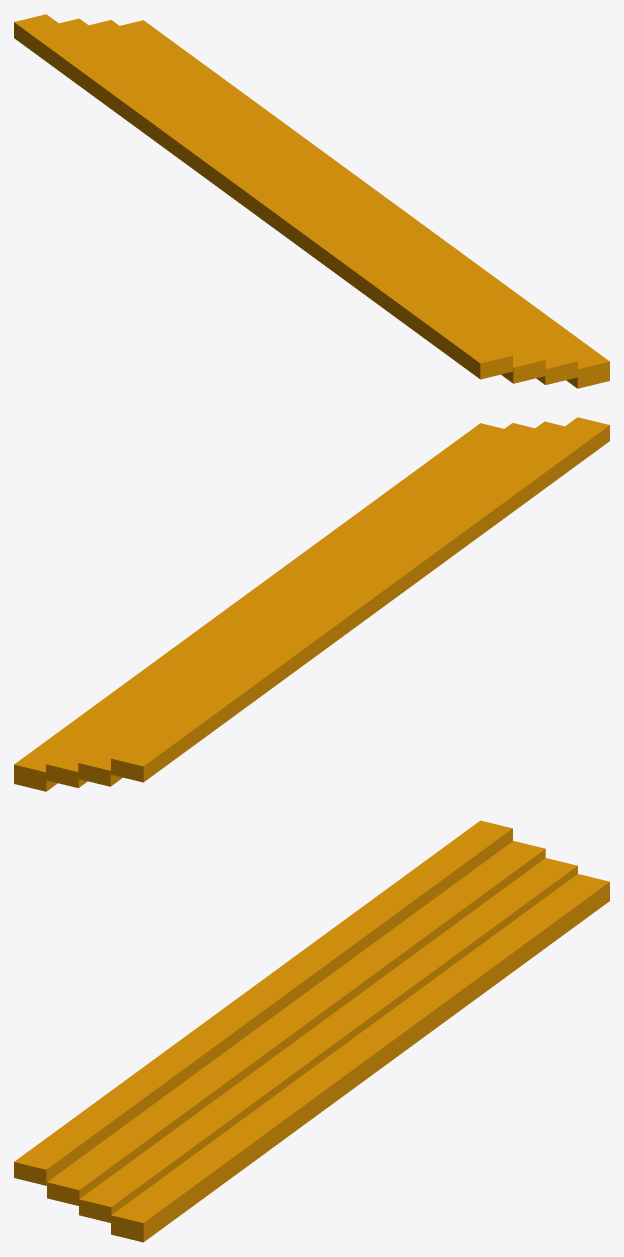
The model's file is Stairs_01_Lod1.fbx.
3 renders of one model, top to bottom at view 1: azimuth 30°, elevation 25°; view 2: azimuth 150°, elevation 25°; view 3: azimuth 330°, elevation 25°, orthographic.
Parts seen in each view (by area): view 1: Stairs_01_Lod1; view 2: Stairs_01_Lod1; view 3: Stairs_01_Lod1.
Boxes of the visible parts, left/top/right/bottom form: Stairs_01_Lod1: left=14, top=14, right=609, bottom=388; Stairs_01_Lod1: left=14, top=417, right=609, bottom=791; Stairs_01_Lod1: left=14, top=820, right=609, bottom=1242.
Size of the model in its own units: 483 by 174 by 3013.
